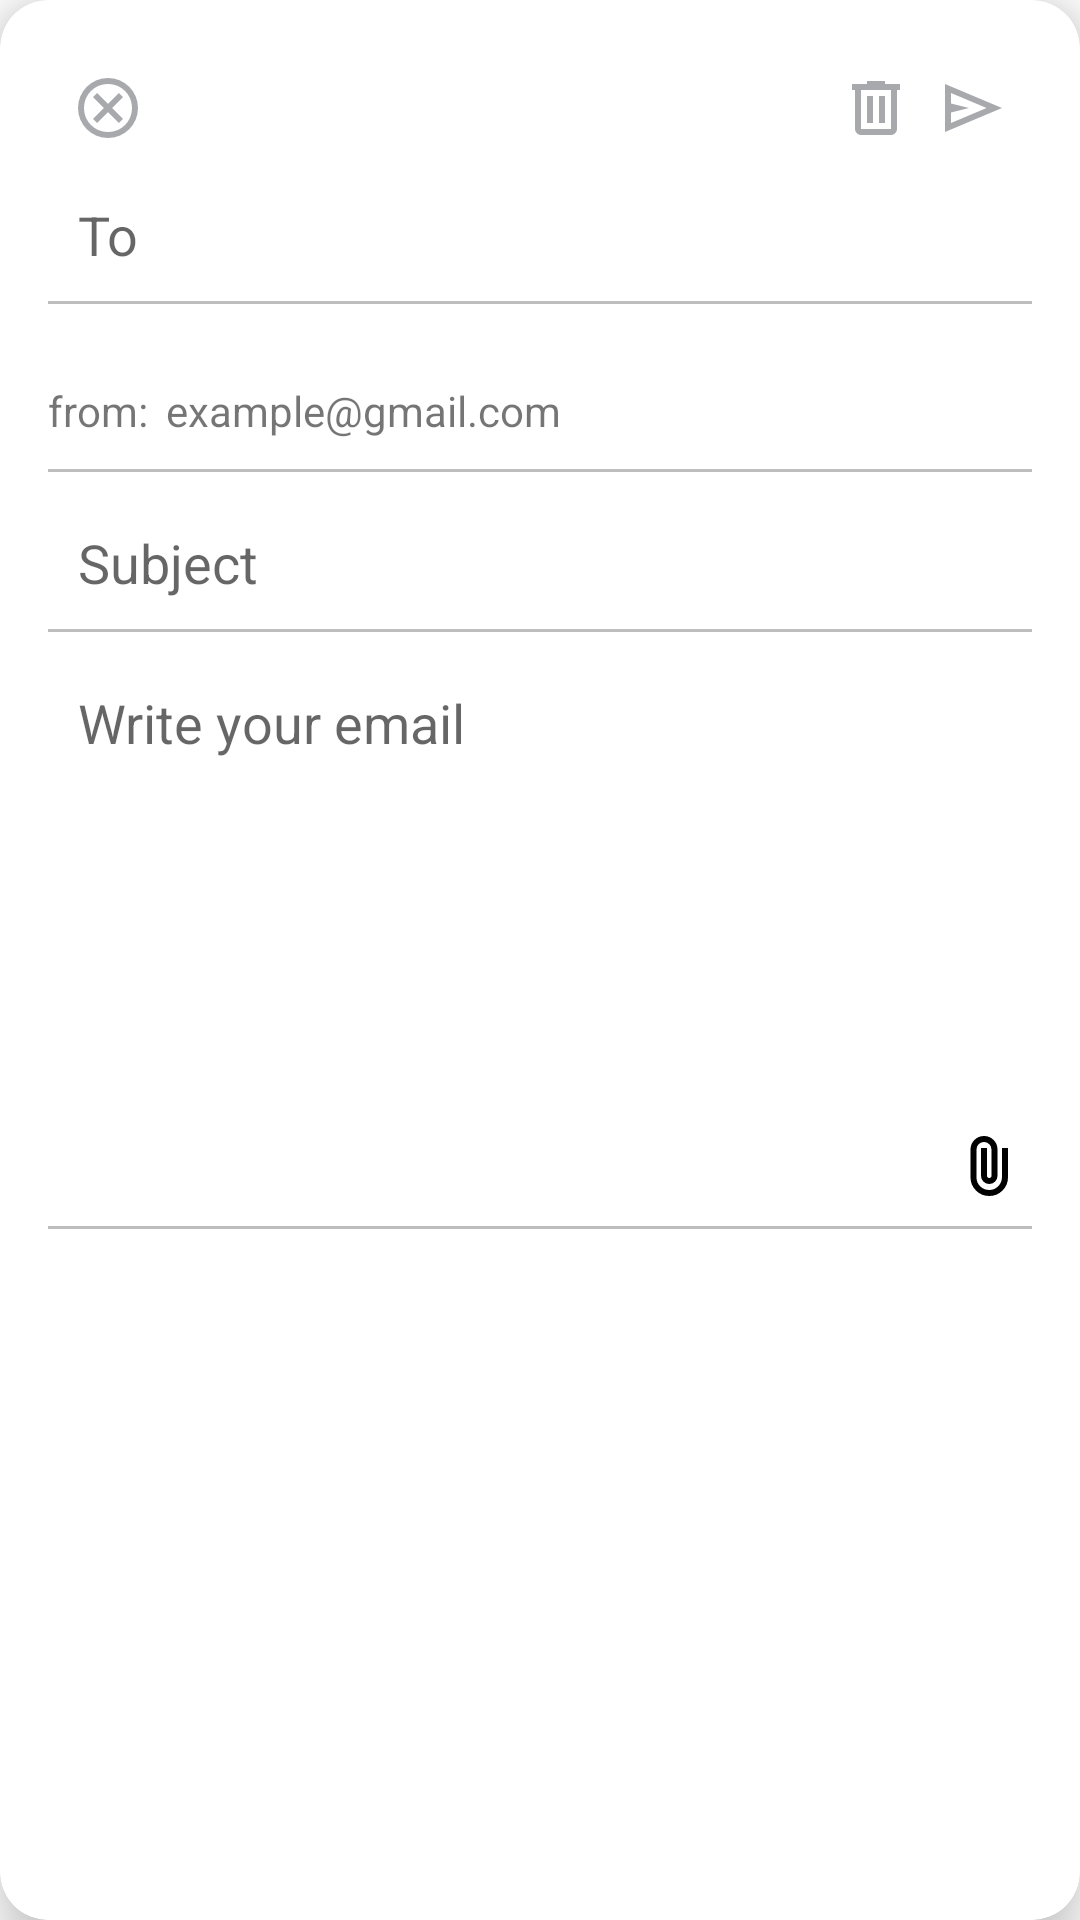

Where to tap for icons on this 1080px x 1920px app screen, as (x,y):
Attach File: (989,1166)
Close: (108,108)
Send: (973,108)
